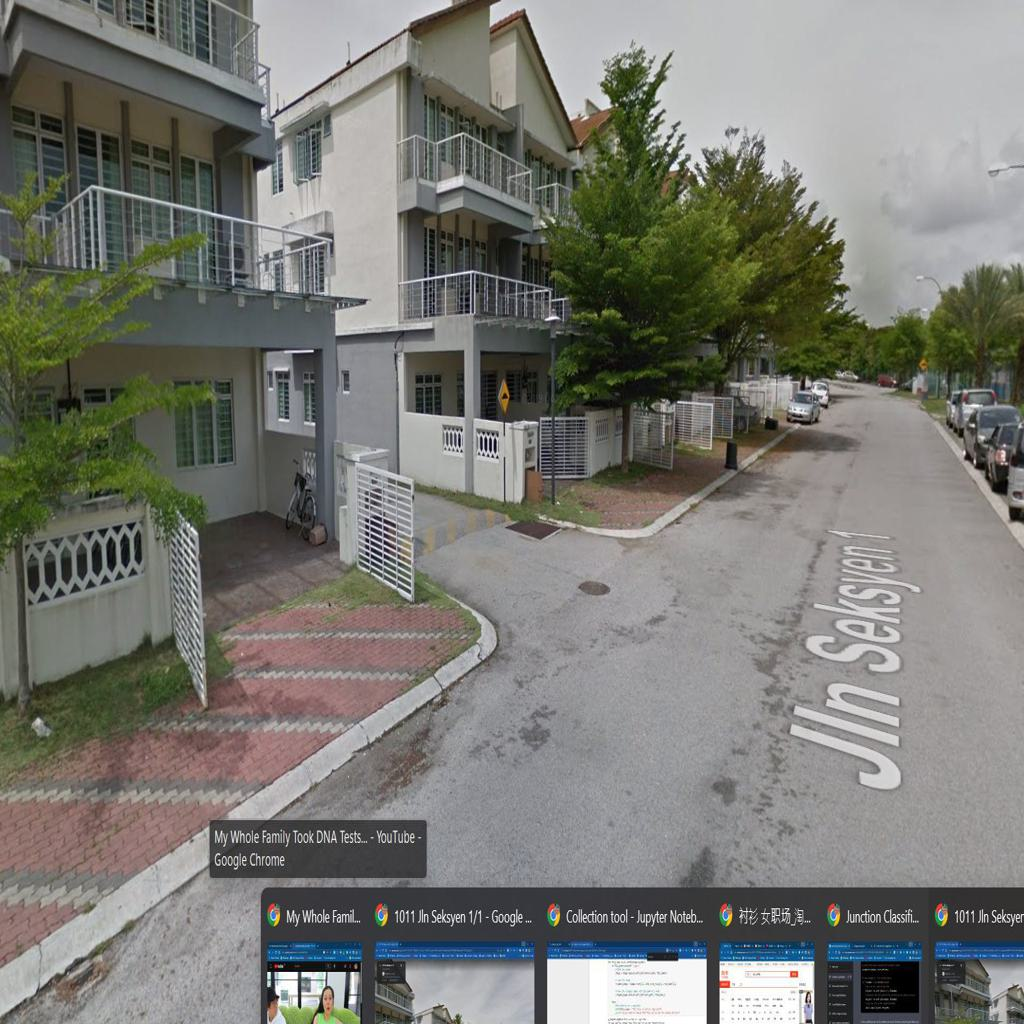Junction: (371, 456, 700, 706)
